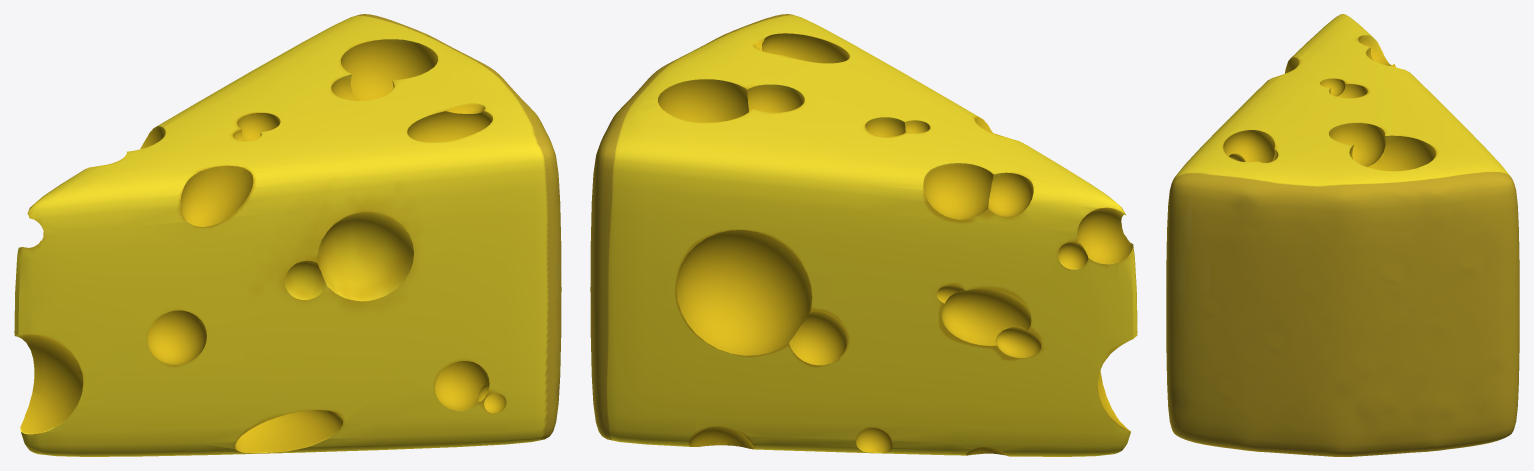
File: Item_Cheese.fbx
The picture shows the model from 3 angles, left to right: view 1: azimuth 30°, elevation 25°; view 2: azimuth 150°, elevation 25°; view 3: azimuth 270°, elevation 25°; orthographic projection. The views are drawn at different scales.
Visible parts, largest first — view 1: Cheese; view 2: Cheese; view 3: Cheese.
Part boxes in pixels (box(x1,y1,x2,y2)): Cheese: box(14, 14, 561, 456); Cheese: box(590, 14, 1137, 456); Cheese: box(1166, 14, 1519, 456).
Bounding box in the file's own units: 225 × 196 × 321.
